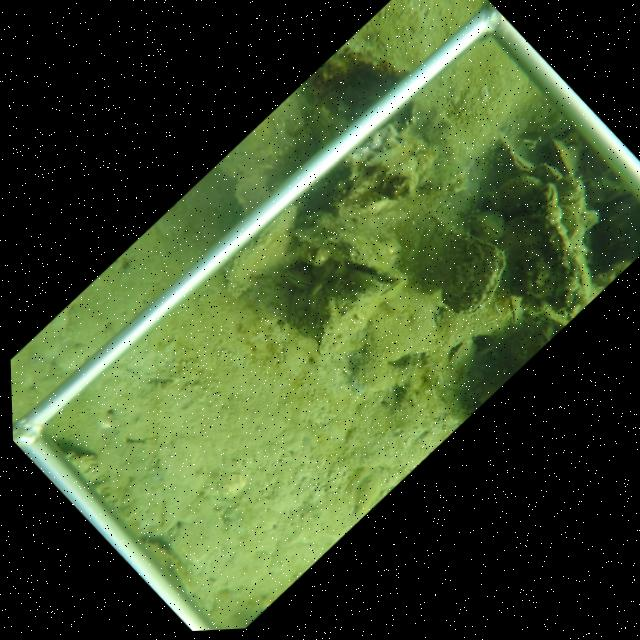Oyster-Closed: (315, 290, 383, 358), (467, 209, 507, 241), (548, 138, 577, 175), (376, 274, 409, 305), (284, 265, 315, 287), (415, 166, 437, 190), (482, 190, 504, 210), (381, 299, 398, 313)
Oyster-Indeterminate: (226, 204, 300, 297), (496, 173, 543, 210)
Oyster-Open: (438, 232, 508, 315)
